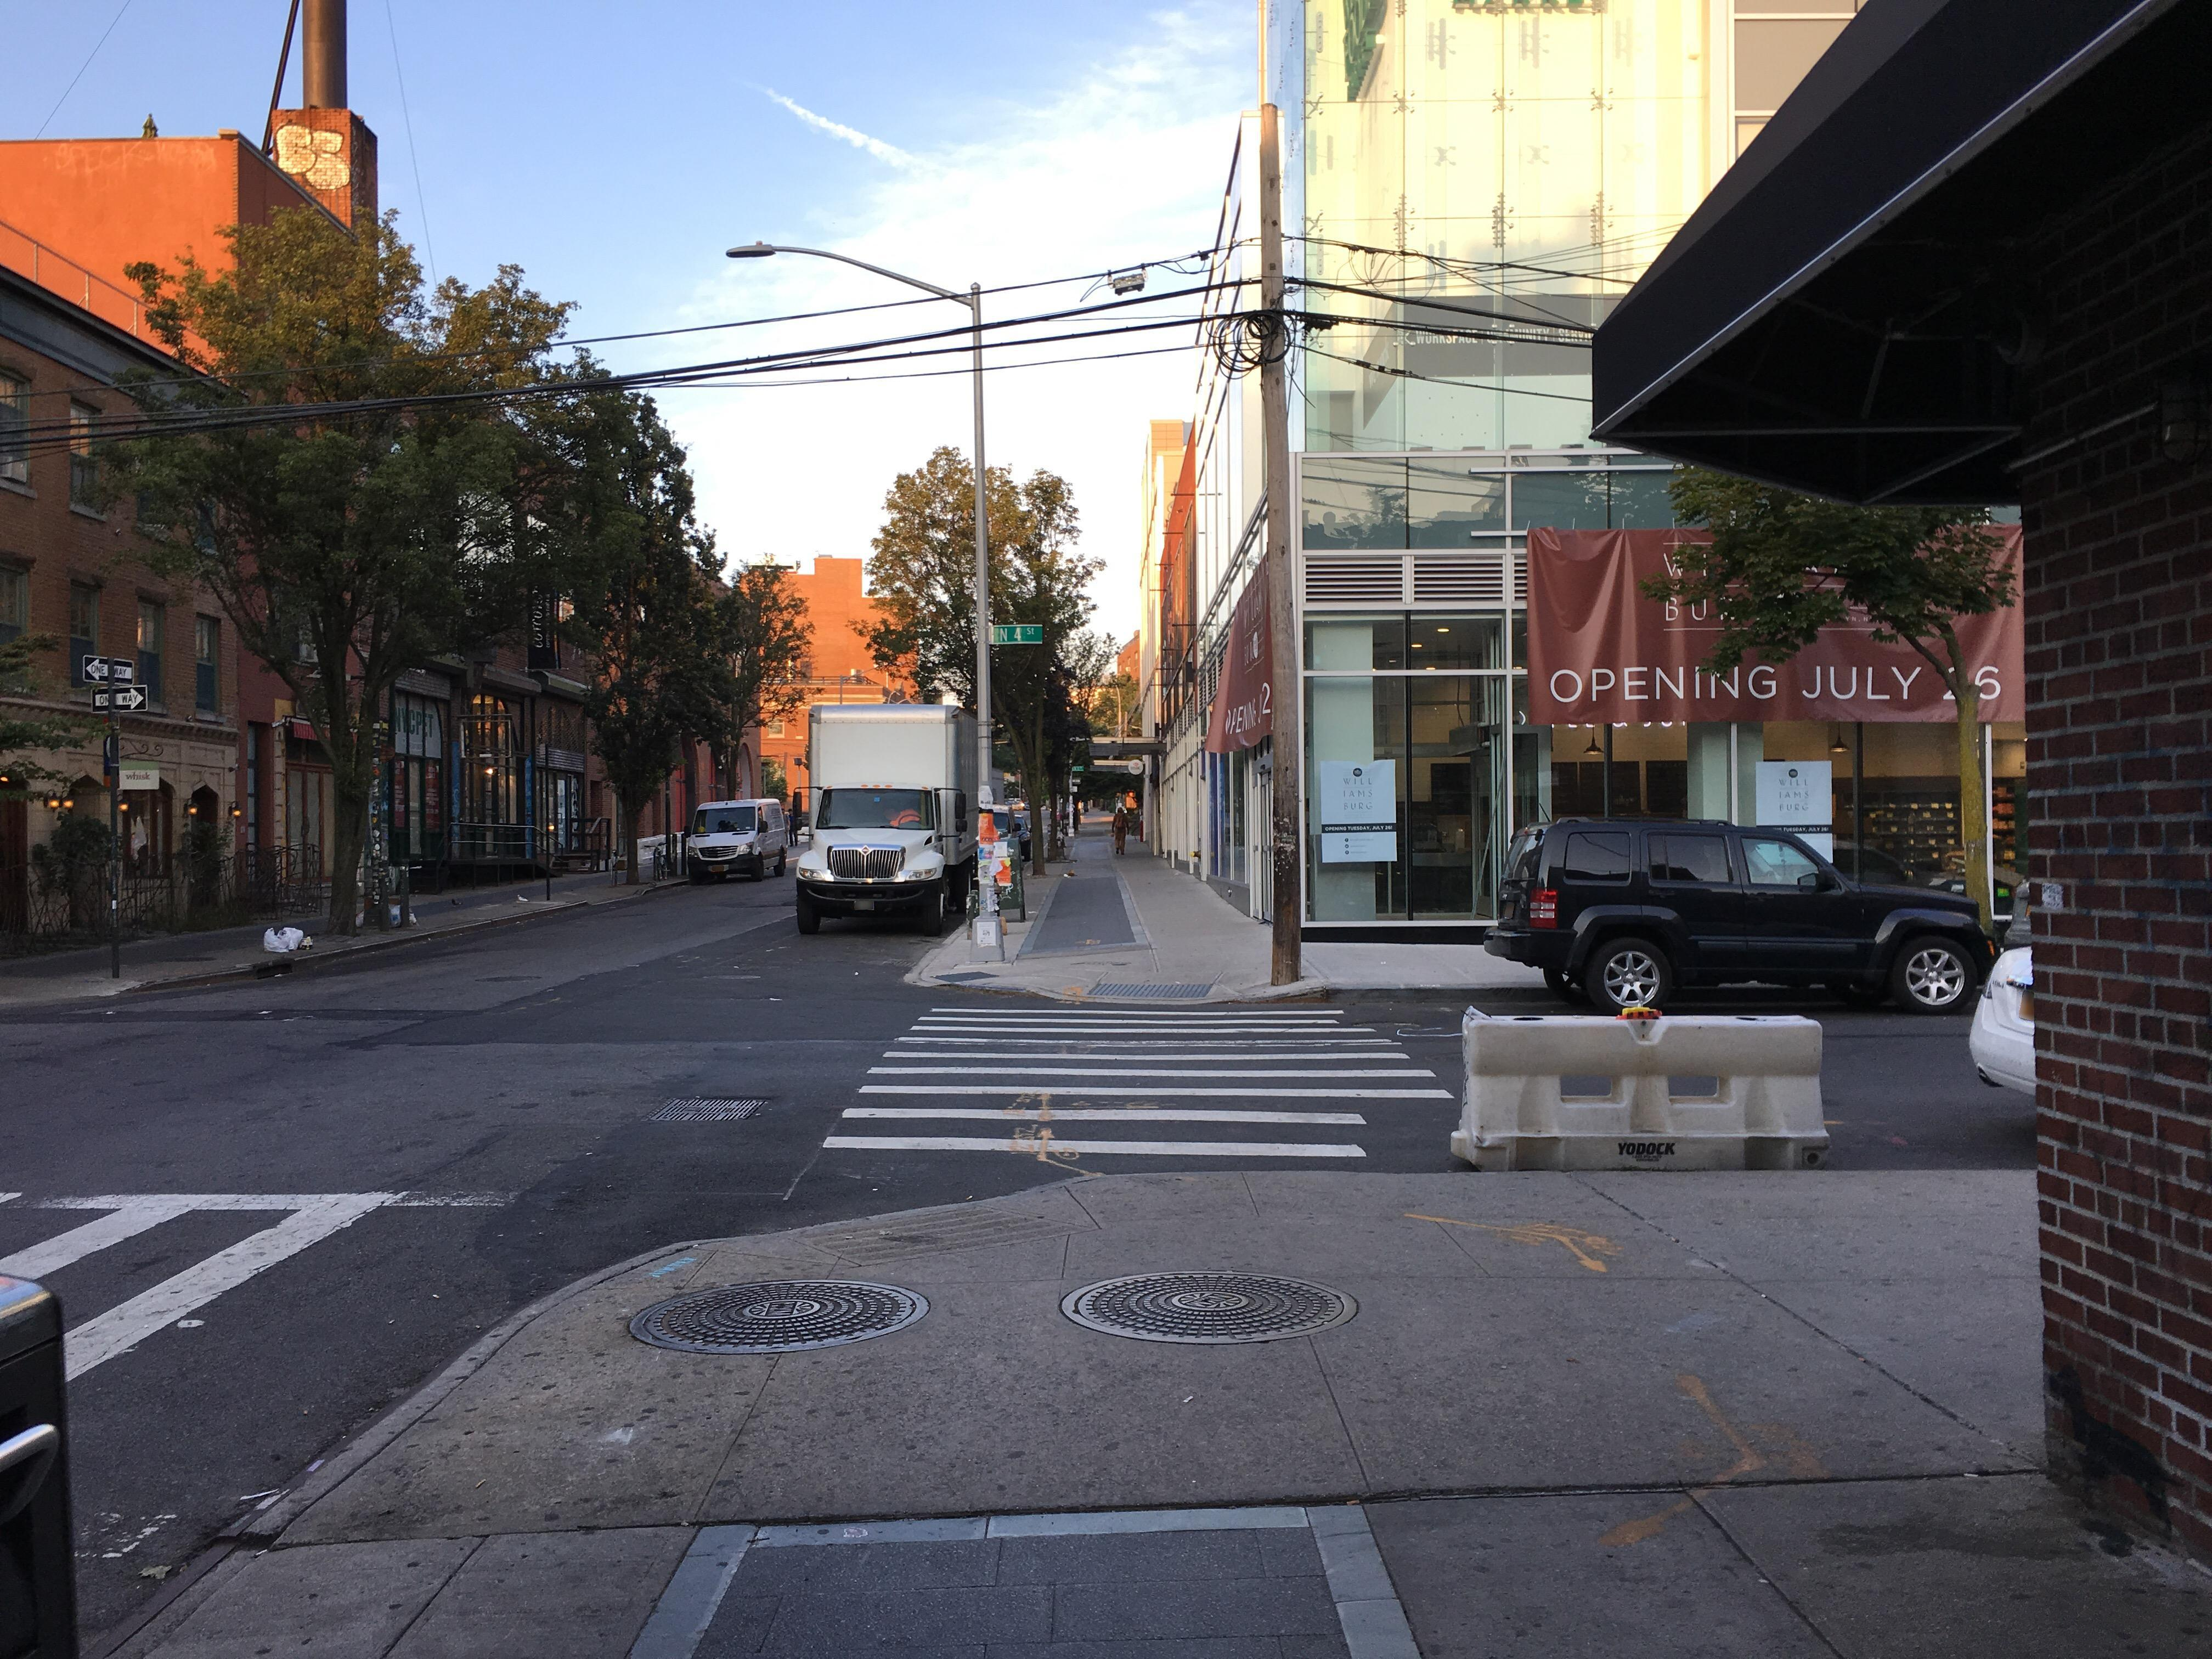vinyl banner: (1517, 511, 2033, 751), (1195, 561, 1298, 756)
